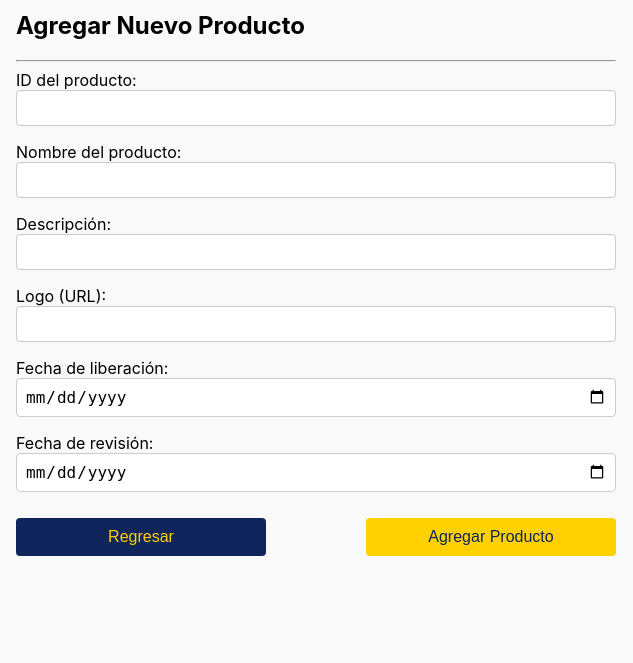
Scenario: CreateProduct component › shows validation errors for empty fields on submit
Click the button "Agregar Producto" at x=491, y=537, box [366,518,616,556]
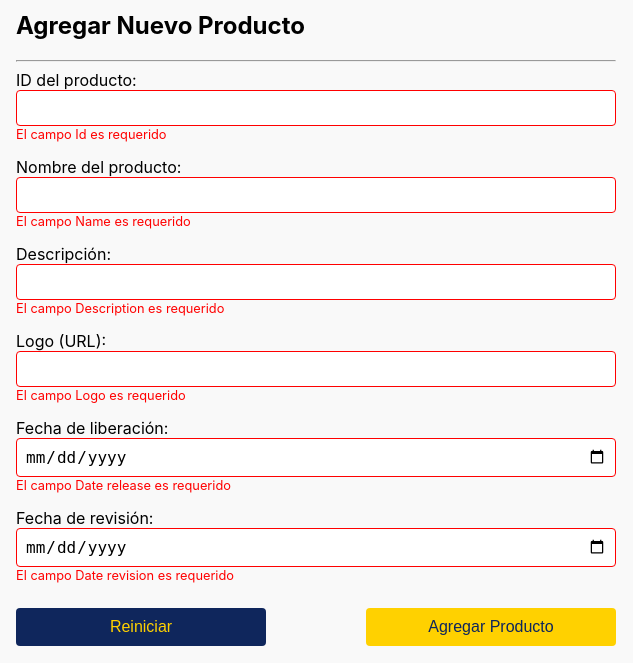
Now the text "El campo Id es requerido" is shown, box [16,127,166,142]
Now the text "El campo Name es requerido" is shown, box [16,214,191,229]
